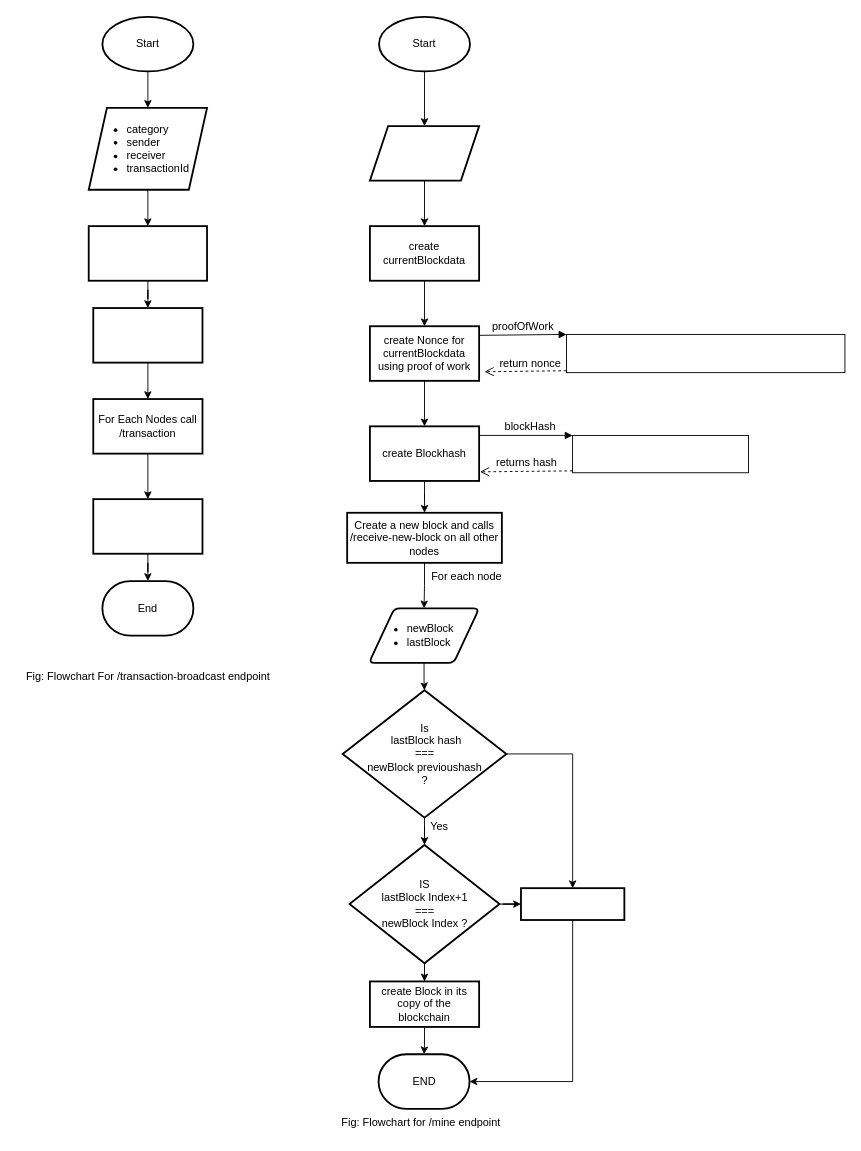
The diagram is 861 pixels wide and 1151 high, and some of its shapes have lost their labels. The centre of each missing label's shape, as x and y in pixels:
"Add to pendingTransaction" belongs at point (147, 335).
"Block rejected" belongs at point (572, 903).
"createNewTransaction" belongs at point (147, 253).
"Everynode adds transaction to pending transaction" belongs at point (147, 526).
"generate a nonce for hash containing initial four zeros" belongs at point (705, 353).
"generate hash using sha256" belongs at point (660, 454).
"lastblock transaction" belongs at point (424, 153).
